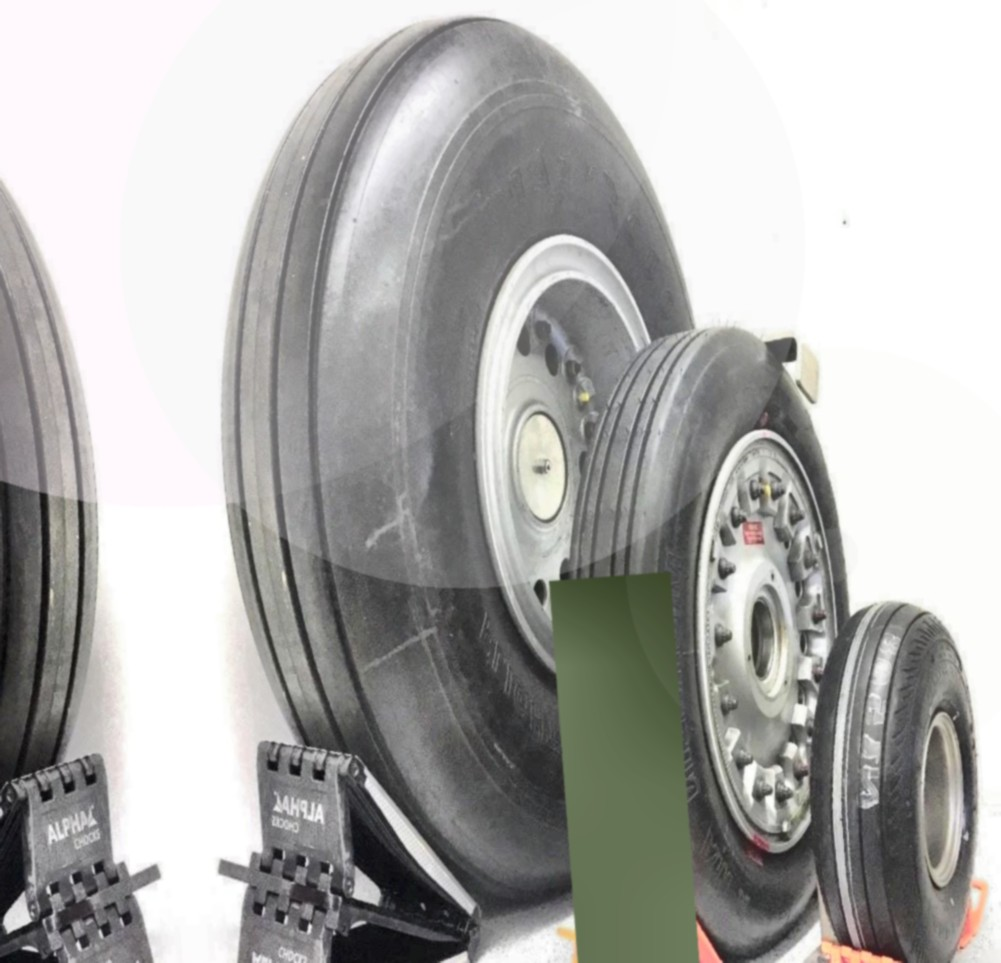chock: (194, 719, 499, 963), (0, 742, 189, 963), (542, 821, 739, 963)
wheel: (190, 0, 743, 938), (555, 322, 872, 949), (791, 596, 996, 963)
